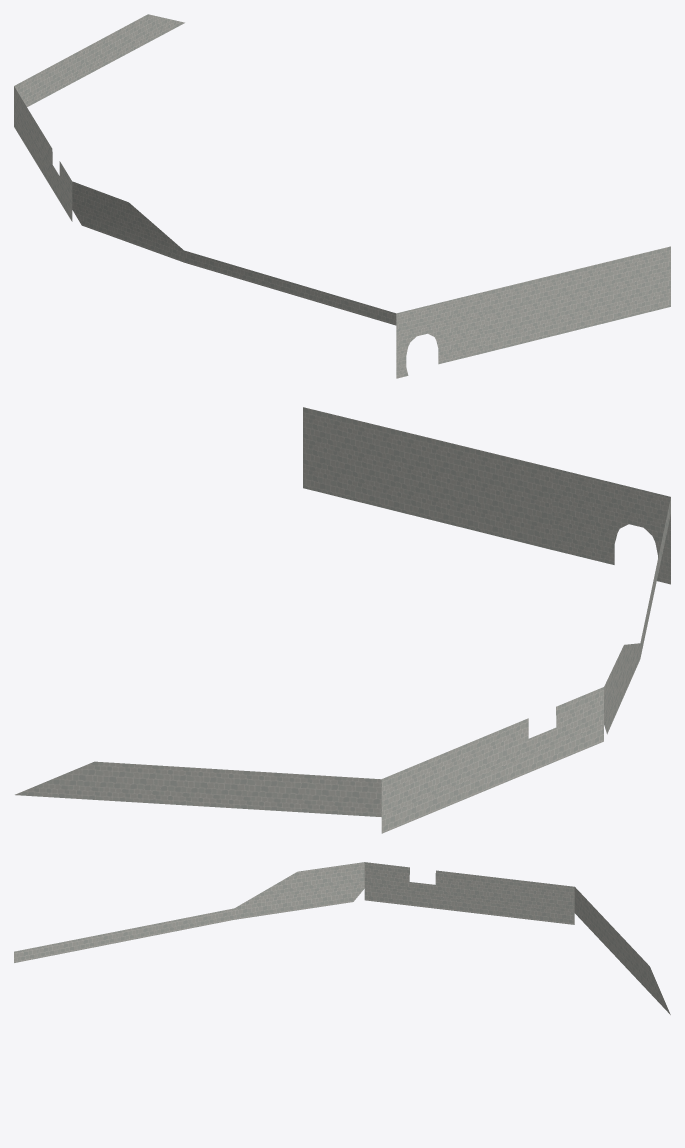
File: kd_stage_1366d7_0_9.glb
The picture shows the model from 3 angles, top to bottom: view 1: azimuth 30°, elevation 25°; view 2: azimuth 150°, elevation 25°; view 3: azimuth 270°, elevation 25°; orthographic projection. The views are drawn at different scales.
Parts seen in each view (by area): view 1: kd_stage_1366d7_0_9; view 2: kd_stage_1366d7_0_9; view 3: kd_stage_1366d7_0_9.
Part boxes in pixels (x1,y1,x2,y2): kd_stage_1366d7_0_9: [14, 14, 670, 378]; kd_stage_1366d7_0_9: [15, 407, 670, 833]; kd_stage_1366d7_0_9: [14, 862, 670, 1014].
Size of the model in its own units: 61.14 by 13.34 by 90.14.
1 material, 1 textured.
